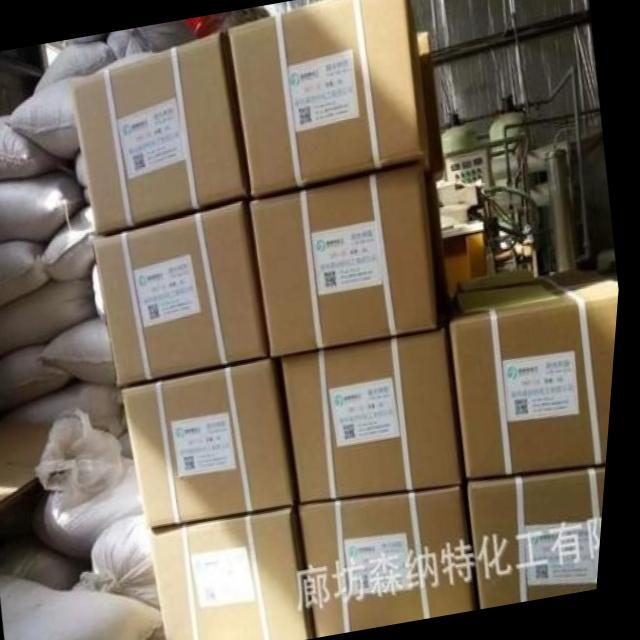box: (222, 0, 447, 201), (251, 166, 456, 358), (70, 31, 251, 238), (455, 267, 623, 485), (95, 200, 276, 387), (284, 326, 473, 500), (126, 356, 306, 530), (307, 486, 486, 634), (154, 502, 326, 640), (473, 468, 613, 609)
